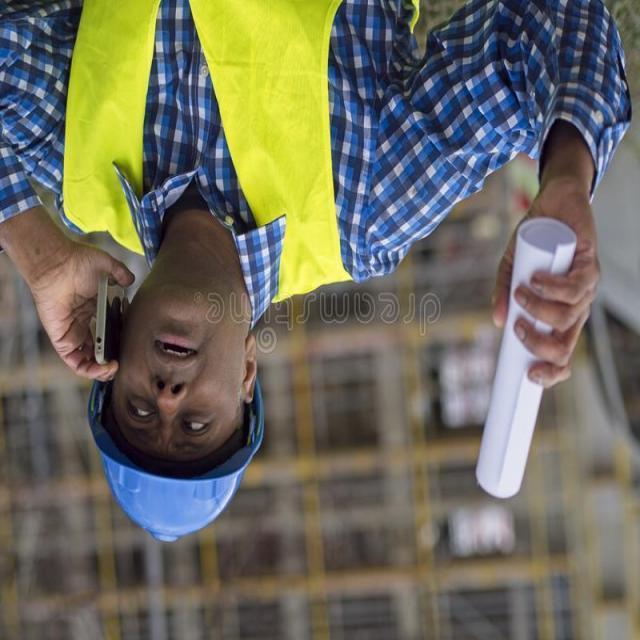safetyhelmet: (86, 322, 262, 548)
